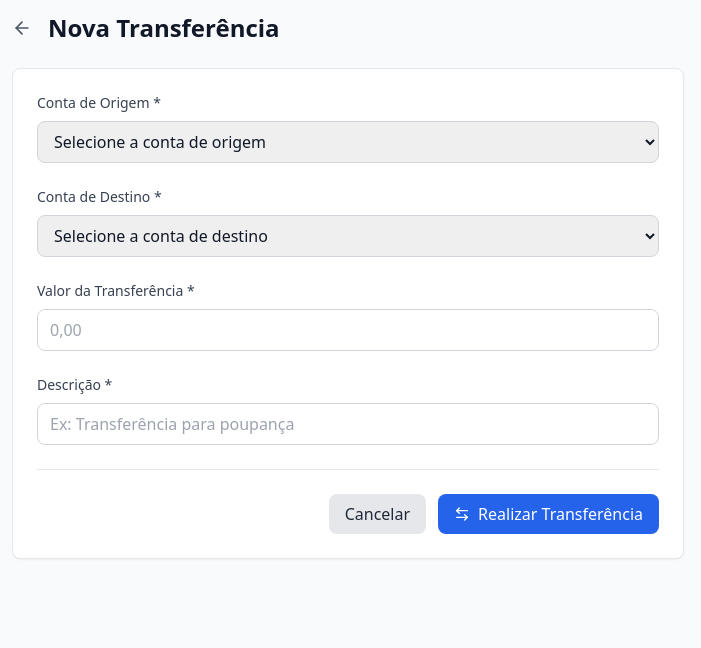
Test: TransferForm › deve validar campos obrigatórios
This screenshot has width=701, height=648.
Note: Tenta submeter sem preencher campos
Click the button "Realizar Transferência" at (549, 514), box [438,494,659,534]
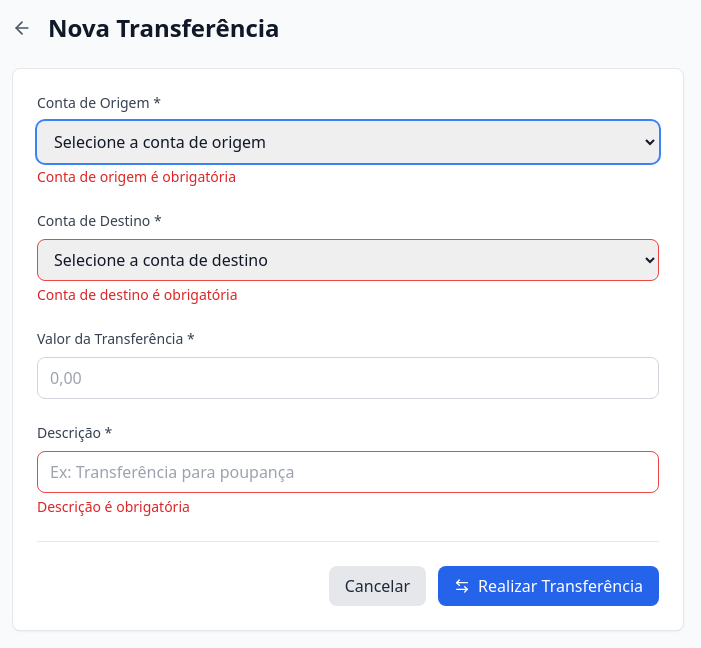
expect the text "Conta de origem é obrigatória" is shown: met, box [37,167,236,186]
expect the text "Conta de destino é obrigatória" is shown: met, box [37,285,238,304]
expect the text "Descrição é obrigatória" is shown: met, box [37,497,190,516]
